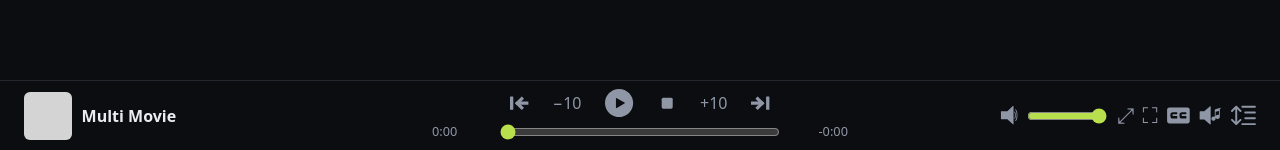
Test: NowPlayingBar — Audio menu › lists every audio Stream and marks the server-resolved one active
Click the 1st button with test id "now-playing-audio": (1211, 116) [1198,103,1223,128]
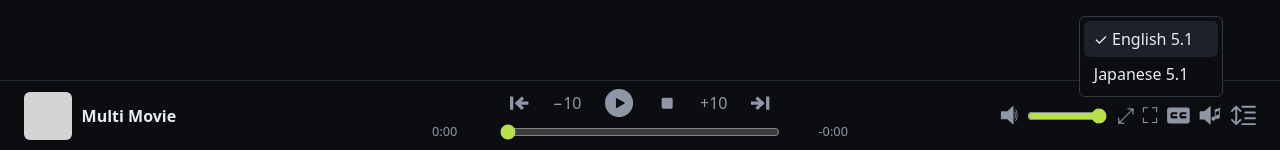
Check: the menu with test id "now-playing-audio-menu" shows "English 5.1", box [1084,21,1218,56]
Check: the menu with test id "now-playing-audio-menu" shows "Japanese 5.1", box [1084,56,1218,92]
